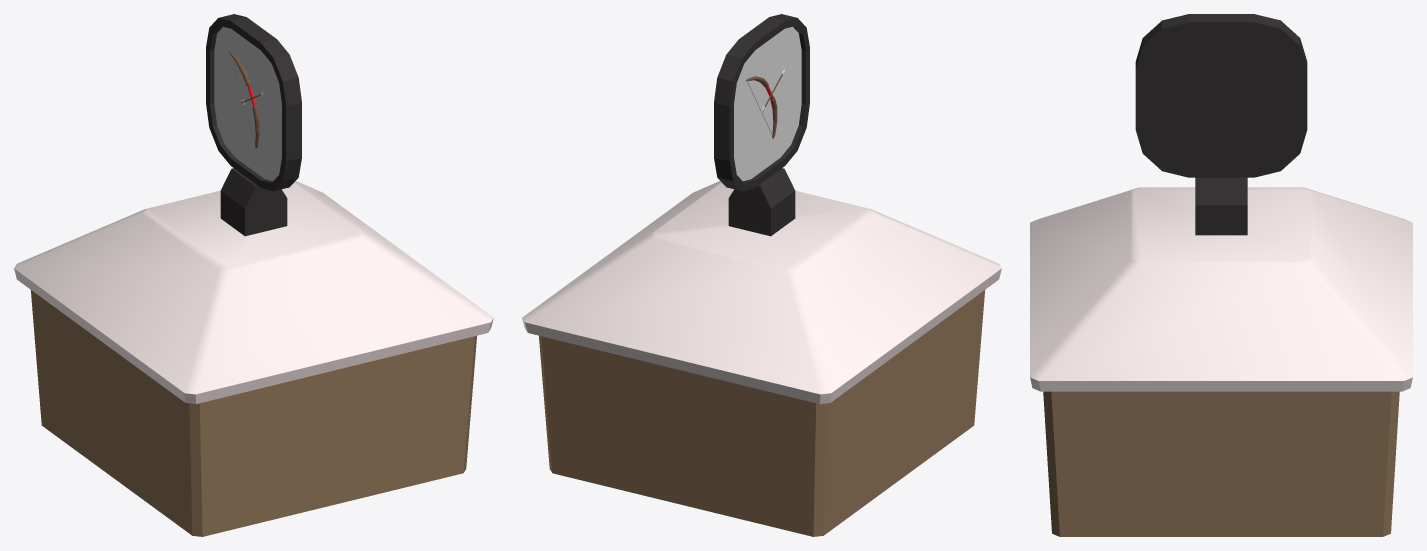
File: SM_ArcherHouse.fbx
3 renders of one model, left to right at view 1: azimuth 30°, elevation 25°; view 2: azimuth 150°, elevation 25°; view 3: azimuth 270°, elevation 25°, orthographic. The views are drawn at different scales.
Visible parts, largest first — view 1: SM_ArcherHouse; view 2: SM_ArcherHouse; view 3: SM_ArcherHouse.
Part boxes in pixels (bbox=[...]): SM_ArcherHouse: bbox=[14, 14, 493, 536]; SM_ArcherHouse: bbox=[522, 14, 1001, 536]; SM_ArcherHouse: bbox=[1030, 14, 1412, 536].
Size of the model in its own units: 226 by 291 by 226.
